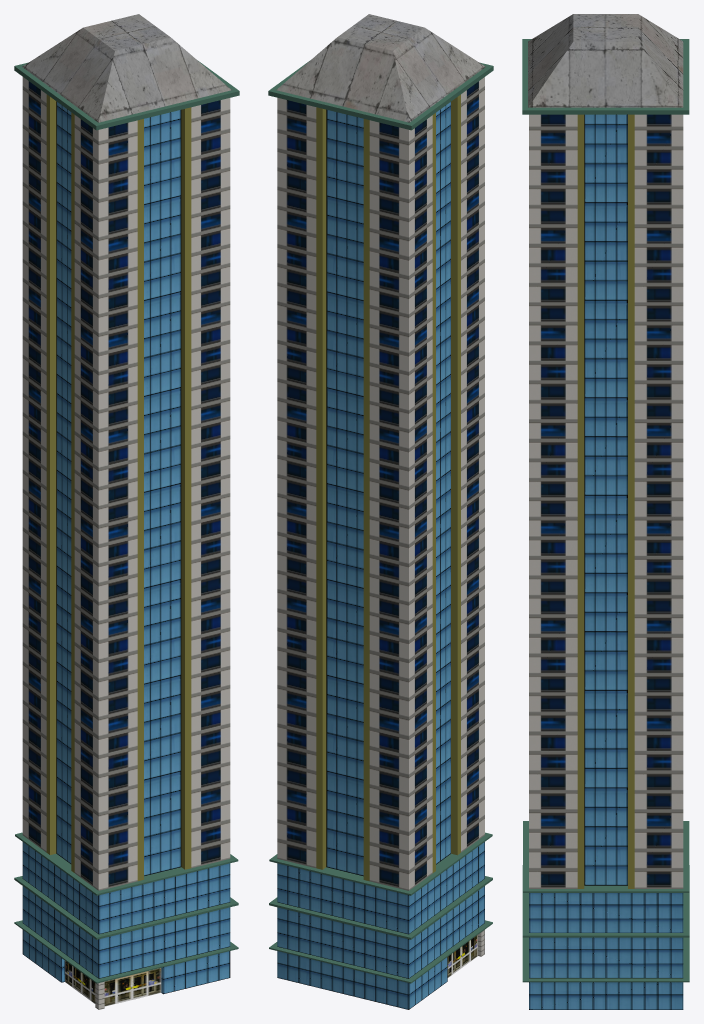
The model's file is building20.FBX.
3 views of the same model, side by side, from view 1: azimuth 30°, elevation 25°; view 2: azimuth 150°, elevation 25°; view 3: azimuth 270°, elevation 25° (orthographic).
Parts seen in each view (by area): view 1: building20; view 2: building20; view 3: building20.
Boxes of the visible parts, x1=… form: building20: x1=14, y1=14, x2=239, y2=1009; building20: x1=268, y1=14, x2=493, y2=1009; building20: x1=522, y1=14, x2=689, y2=1009.
Bounding box in the file's own units: 131 × 813 × 130.
